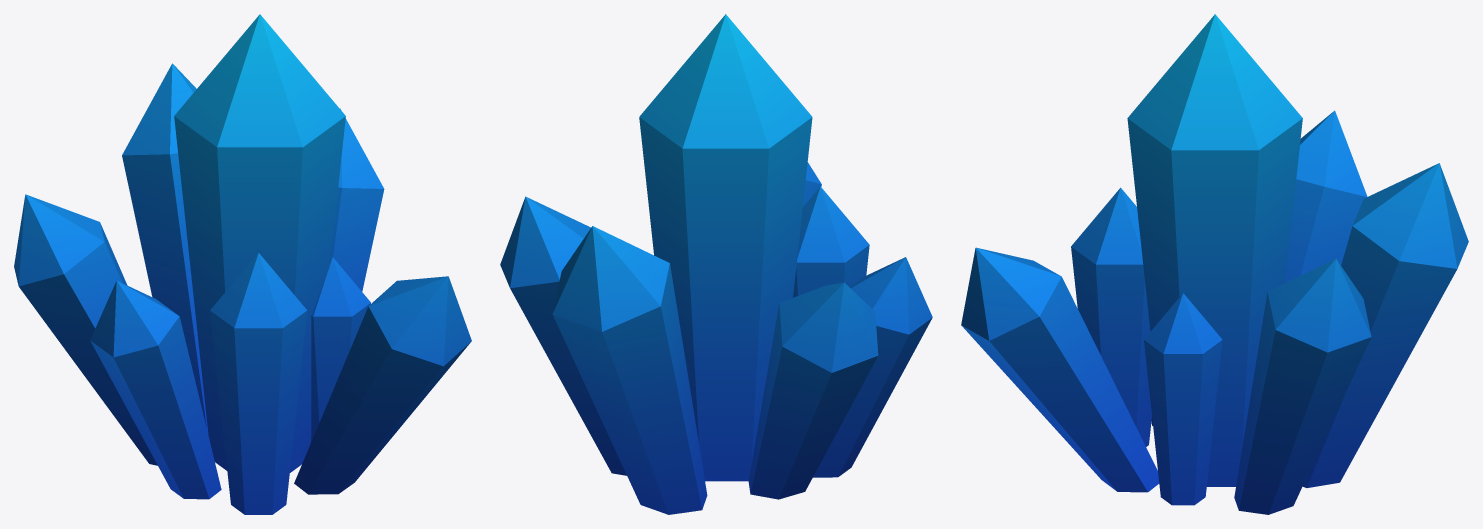
Rendered from crystal_21.glb.
3 renders of one model, left to right at view 1: azimuth 30°, elevation 25°; view 2: azimuth 150°, elevation 25°; view 3: azimuth 270°, elevation 25°, orthographic. The views are drawn at different scales.
Visible parts, largest first — view 1: crystal_21; view 2: crystal_21; view 3: crystal_21.
Boxes of the visible parts, left/top/right/bottom form: crystal_21: left=14, top=14, right=471, bottom=514; crystal_21: left=500, top=14, right=932, bottom=514; crystal_21: left=961, top=14, right=1468, bottom=514.
Size of the model in its own units: 4.4 by 5.16 by 5.19.
1 material, 1 textured.
